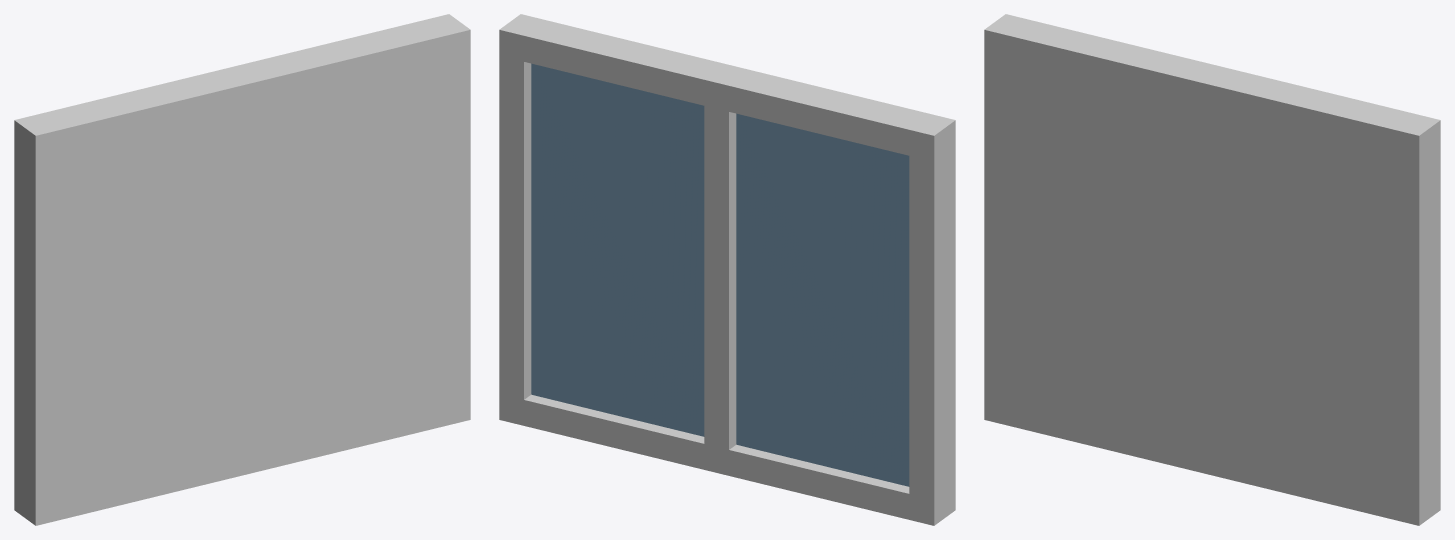
Rendered from TwoBigWindow.fbx.
The picture shows the model from 3 angles, left to right: view 1: azimuth 30°, elevation 25°; view 2: azimuth 150°, elevation 25°; view 3: azimuth 330°, elevation 25°; orthographic projection.
Parts seen in each view (by area): view 1: TwoBigWindow; view 2: TwoBigWindow; view 3: TwoBigWindow.
Boxes of the visible parts, x1,y1,x2,y2 form: TwoBigWindow: (14,14,470,525); TwoBigWindow: (499,14,955,525); TwoBigWindow: (984,14,1440,525).
Bounding box in the file's own units: 350 × 300 × 30.
